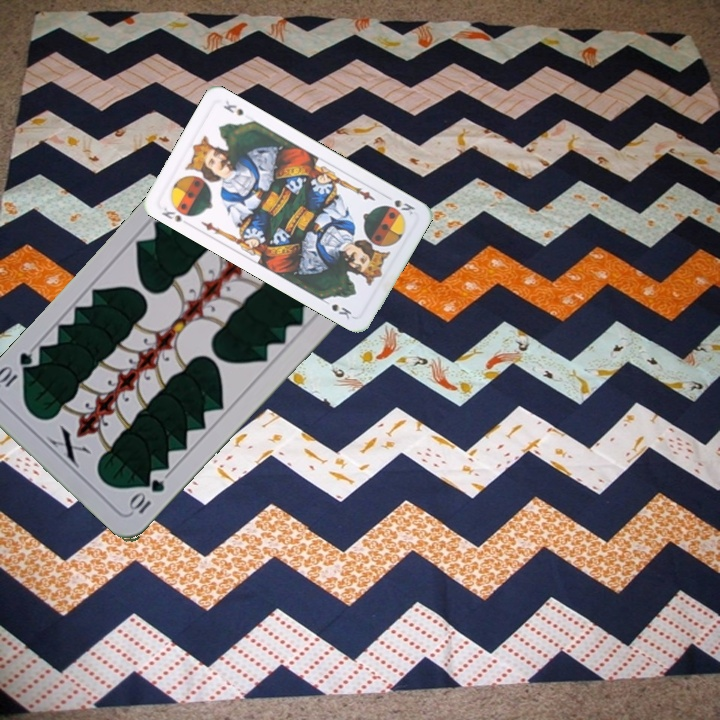G10: (125, 475, 168, 517)
SK: (380, 191, 418, 217), (158, 203, 184, 225)
